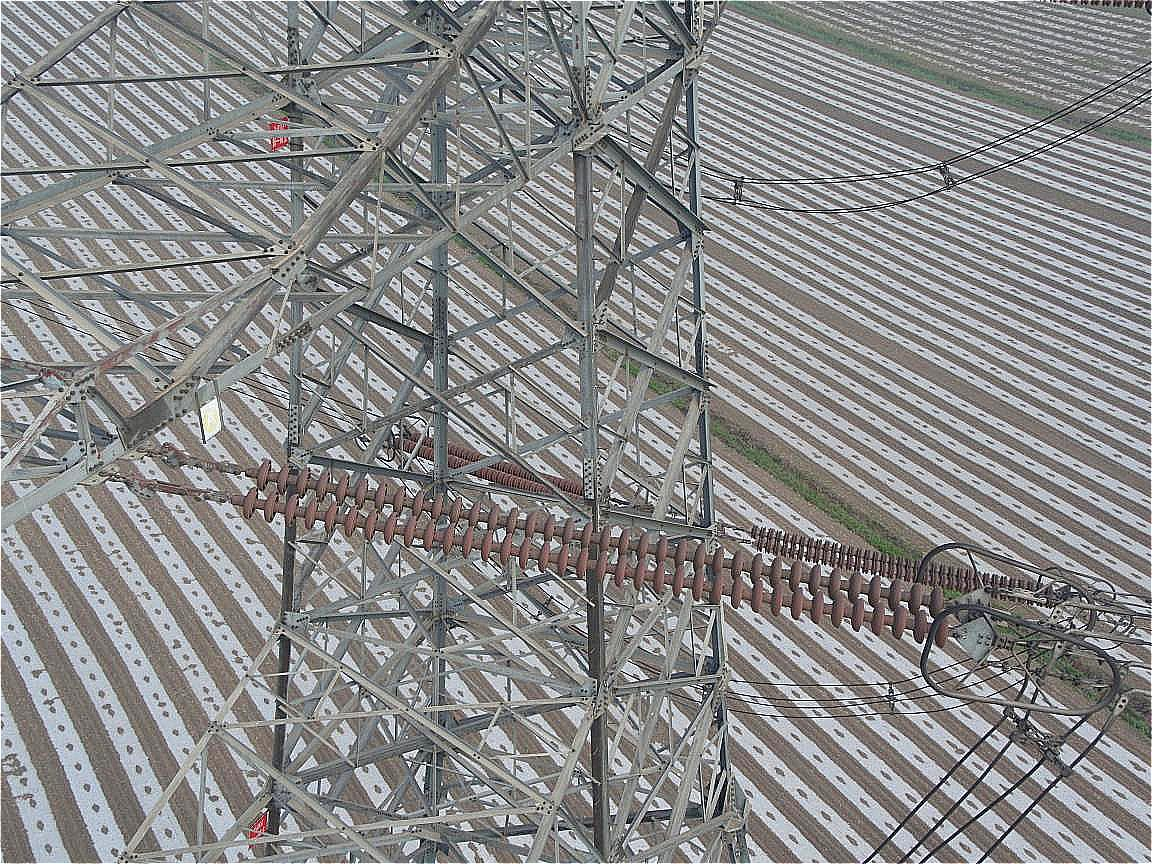insultor1: (199, 445, 986, 657)
insultor2: (728, 516, 1073, 608)
